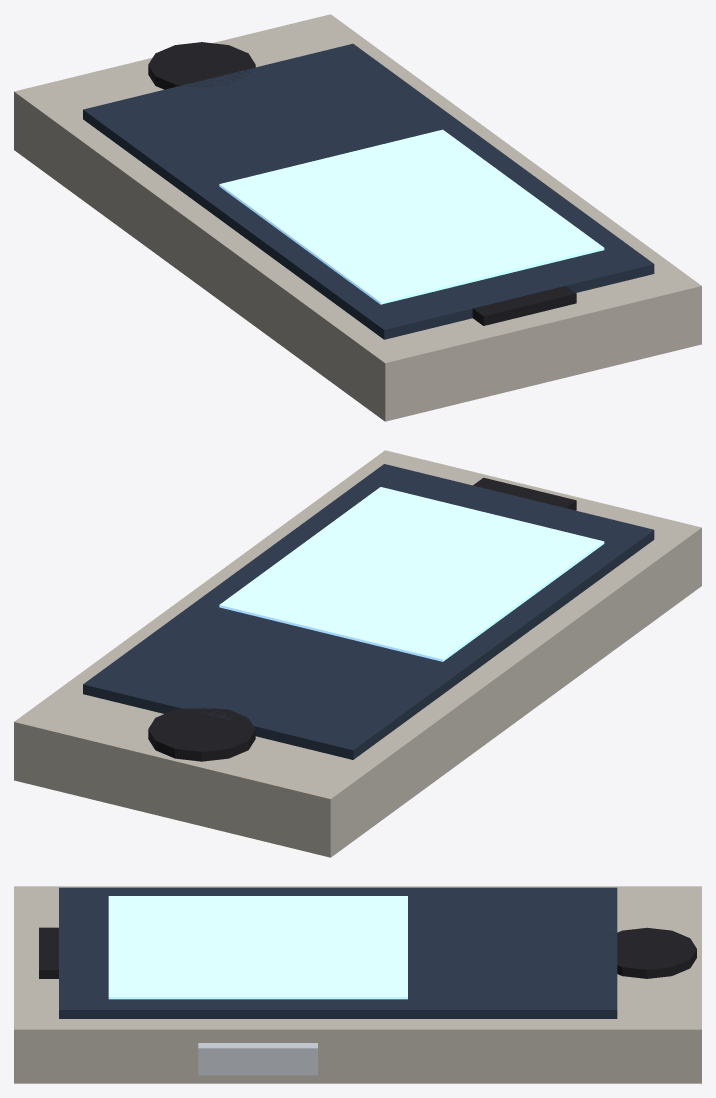
The model's file is phone.glb.
3 renders of one model, top to bottom at view 1: azimuth 30°, elevation 25°; view 2: azimuth 150°, elevation 25°; view 3: azimuth 270°, elevation 25°, orthographic. The views are drawn at different scales.
Visible parts, largest first — view 1: phone; view 2: phone; view 3: phone.
Boxes of the visible parts, <box> form: phone: <box>14,14,701,421</box>; phone: <box>14,450,701,857</box>; phone: <box>14,886,701,1083</box>.
Size of the model in its own units: 0.0705 by 0.016 by 0.138.
